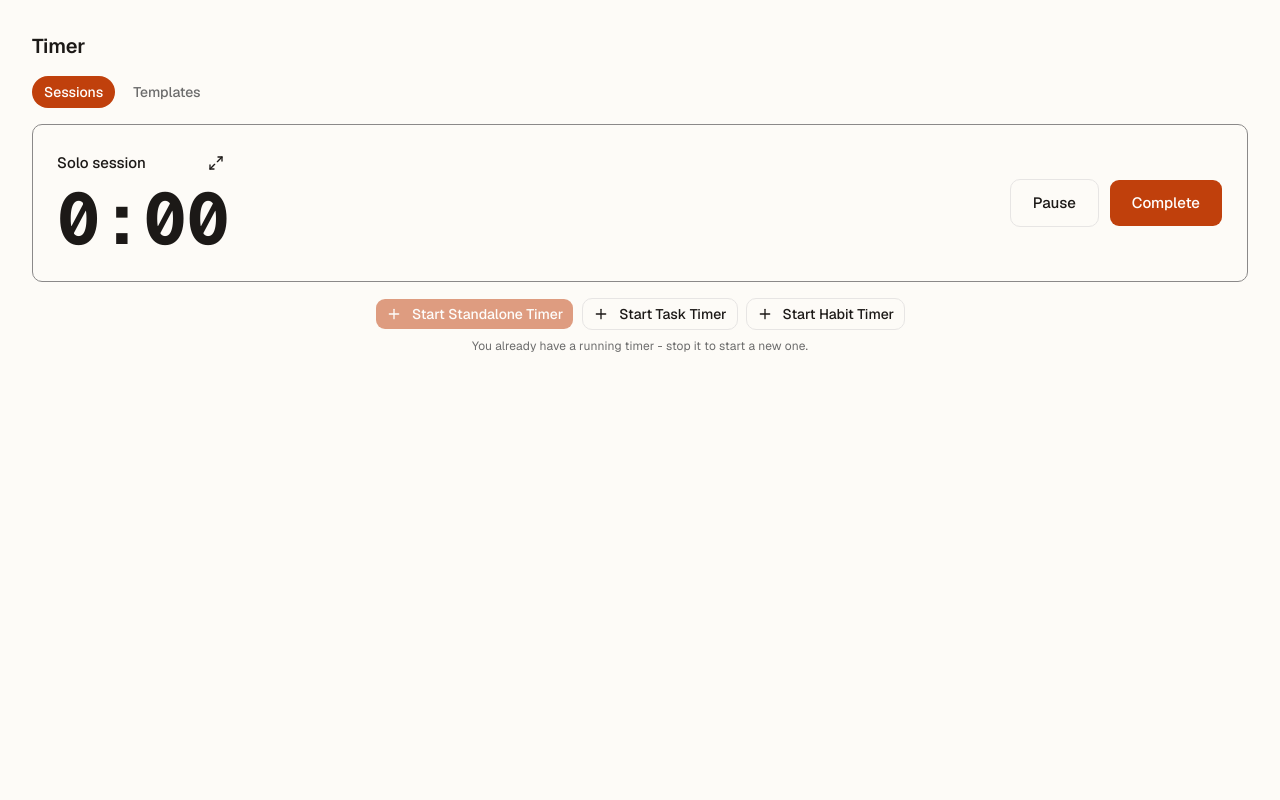
Test case: TimerPageContent › excludes the fullscreen session from the normal list while active
The width and height of the screenshot is (1280, 800).
Click the button "View fullscreen" at (216, 163), box [202,149,230,177]
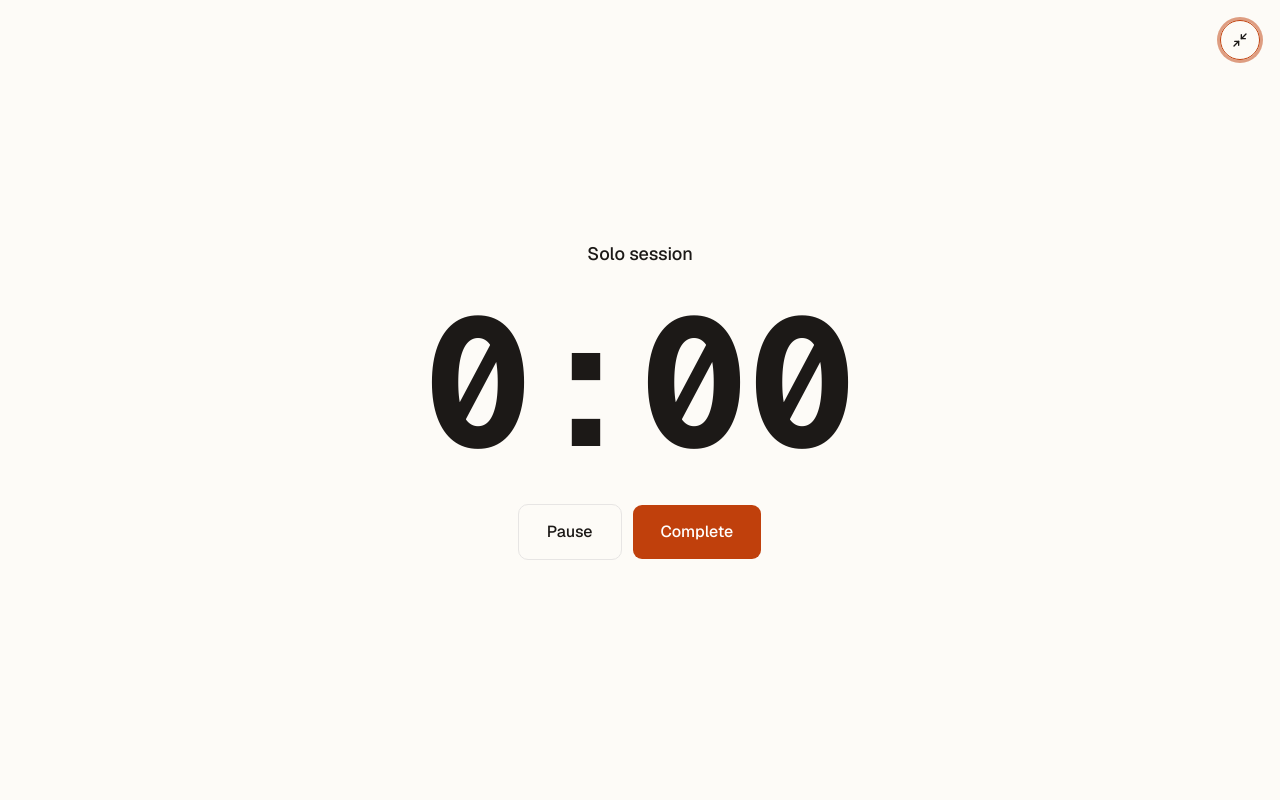
Now the text "Solo session" is shown once, box [587,240,693,268]
